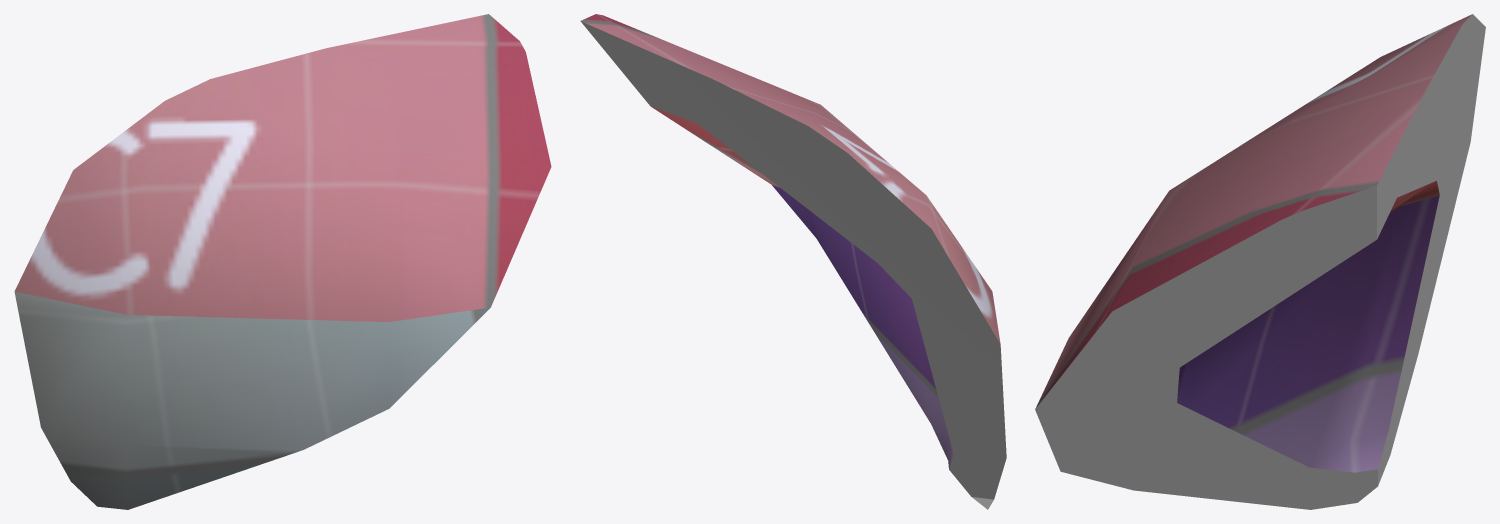
File: MediumVase_SHAT_cell_010.fbx
3 renders of one model, left to right at view 1: azimuth 30°, elevation 25°; view 2: azimuth 150°, elevation 25°; view 3: azimuth 270°, elevation 25°, orthographic. The views are drawn at different scales.
Parts seen in each view (by area): view 1: MediumVase_SHAT_cell_010; view 2: MediumVase_SHAT_cell_010; view 3: MediumVase_SHAT_cell_010.
Boxes of the visible parts, x1,y1,x2,y2 form: MediumVase_SHAT_cell_010: (14, 14, 551, 509); MediumVase_SHAT_cell_010: (580, 14, 1006, 509); MediumVase_SHAT_cell_010: (1035, 14, 1485, 509).
Size of the model in its own units: 0.4202 by 0.3469 by 0.2253.
Materials: 2 (1 with a texture image).
